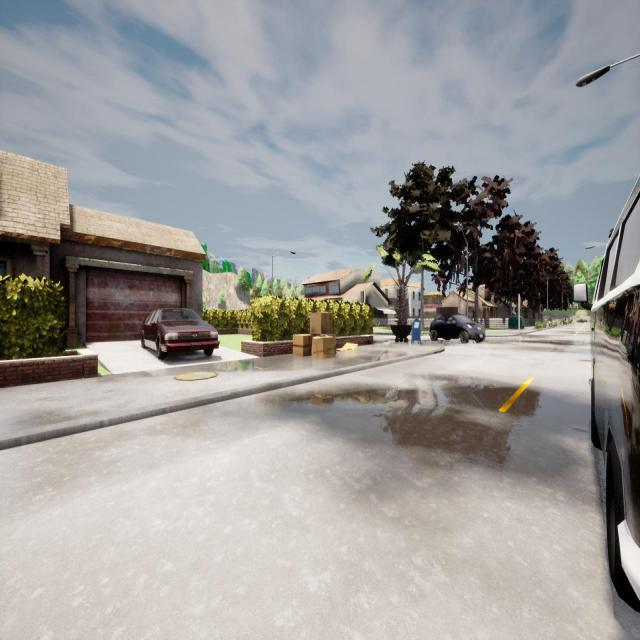Vehicle: (571, 172, 640, 613), (141, 307, 220, 360), (429, 314, 486, 343), (576, 318, 588, 322)
traffic_light: (360, 291, 364, 303), (518, 296, 521, 306)
